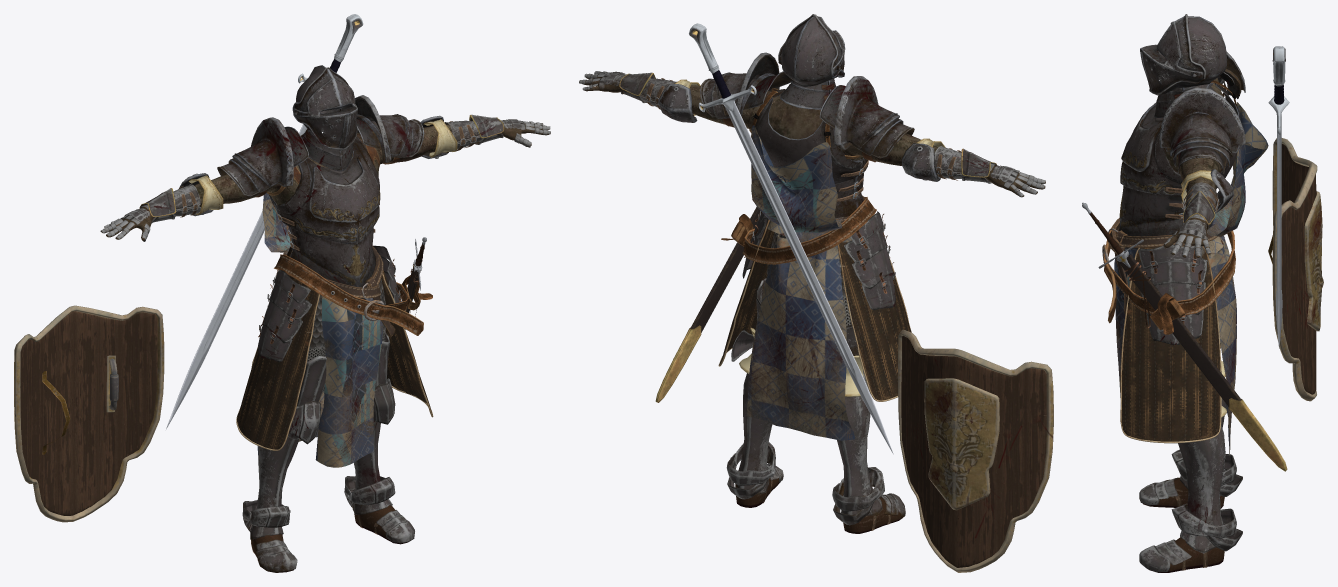
File: Knight.gltf
3 renders of one model, left to right at view 1: azimuth 30°, elevation 25°; view 2: azimuth 150°, elevation 25°; view 3: azimuth 270°, elevation 25°, orthographic. The views are drawn at different scales.
Parts seen in each view (by area): view 1: Object_9, Object_11, Object_6, Object_5, Object_2, Object_20, Object_16, Object_4, Object_18, Object_7, Object_15, Object_3 (+5 smaller); view 2: Object_11, Object_9, Object_7, Object_2, Object_18, Object_4, Object_16, Object_5, Object_19, Object_10, Object_20, Object_15 (+3 smaller); view 3: Object_11, Object_9, Object_18, Object_5, Object_4, Object_16, Object_2, Object_20, Object_7, Object_6, Object_3, Object_15 (+8 smaller).
Boxes of the visible parts, x1=… form: Object_9: x1=14, y1=59, x2=353, y2=522; Object_11: x1=237, y1=157, x2=432, y2=467; Object_6: x1=277, y1=132, x2=380, y2=244; Object_5: x1=232, y1=95, x2=409, y2=186; Object_2: x1=179, y1=111, x2=448, y2=299; Object_20: x1=173, y1=120, x2=479, y2=527; Object_16: x1=104, y1=119, x2=546, y2=393; Object_4: x1=189, y1=65, x2=457, y2=214; Object_18: x1=151, y1=133, x2=503, y2=539; Object_7: x1=42, y1=18, x2=475, y2=454; Object_15: x1=135, y1=119, x2=514, y2=572; Object_3: x1=292, y1=67, x2=357, y2=149; Object_11: x1=719, y1=118, x2=911, y2=440; Object_9: x1=698, y1=70, x2=1053, y2=572; Object_7: x1=646, y1=28, x2=999, y2=510; Object_2: x1=658, y1=65, x2=940, y2=218; Object_18: x1=620, y1=89, x2=991, y2=515; Object_4: x1=674, y1=16, x2=945, y2=158; Object_16: x1=587, y1=71, x2=1041, y2=389; Object_5: x1=716, y1=52, x2=899, y2=148; Object_19: x1=619, y1=72, x2=996, y2=525; Object_10: x1=651, y1=23, x2=961, y2=174; Object_20: x1=640, y1=78, x2=961, y2=499; Object_15: x1=609, y1=73, x2=1005, y2=533; Object_11: x1=1102, y1=88, x2=1268, y2=457; Object_9: x1=1268, y1=84, x2=1317, y2=401; Object_18: x1=1149, y1=220, x2=1287, y2=553; Object_5: x1=1154, y1=51, x2=1245, y2=156; Object_4: x1=1140, y1=16, x2=1241, y2=202; Object_16: x1=1138, y1=213, x2=1221, y2=372; Object_2: x1=1118, y1=72, x2=1239, y2=249; Object_20: x1=1119, y1=182, x2=1241, y2=536; Object_7: x1=1183, y1=48, x2=1323, y2=348; Object_6: x1=1120, y1=82, x2=1213, y2=195; Object_3: x1=1140, y1=14, x2=1239, y2=107; Object_15: x1=1142, y1=187, x2=1224, y2=572.
Size of the model in its own units: 1.98 by 1.84 by 0.7694.
5 materials, 5 textured.
